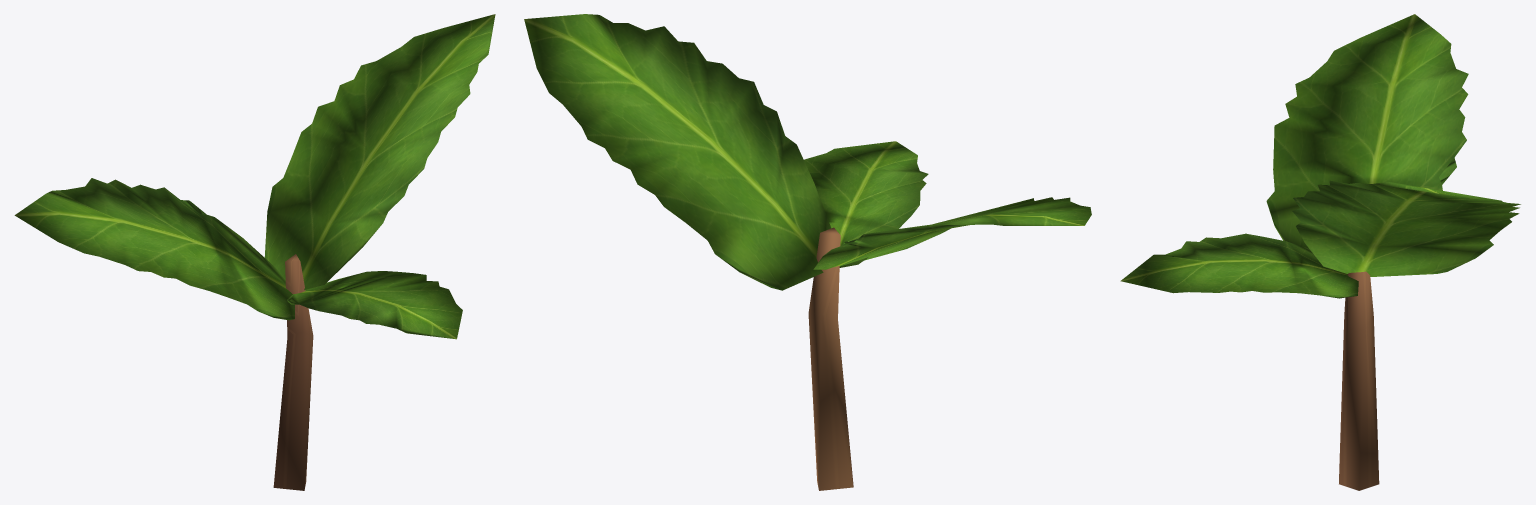
Rendered from NP_Raspberry_Sprout_LOD1.fbx.
3 views of the same model, side by side, from view 1: azimuth 30°, elevation 25°; view 2: azimuth 150°, elevation 25°; view 3: azimuth 270°, elevation 25° (orthographic). The views are drawn at different scales.
Visible parts, largest first — view 1: NP_Raspberry_Sprout; view 2: NP_Raspberry_Sprout; view 3: NP_Raspberry_Sprout.
Boxes of the visible parts, box(x1,y1,x2,y2) form: NP_Raspberry_Sprout: box(14, 14, 495, 490); NP_Raspberry_Sprout: box(524, 14, 1091, 490); NP_Raspberry_Sprout: box(1120, 14, 1520, 490).
Size of the model in its own units: 30.16 by 22.63 by 19.77.
